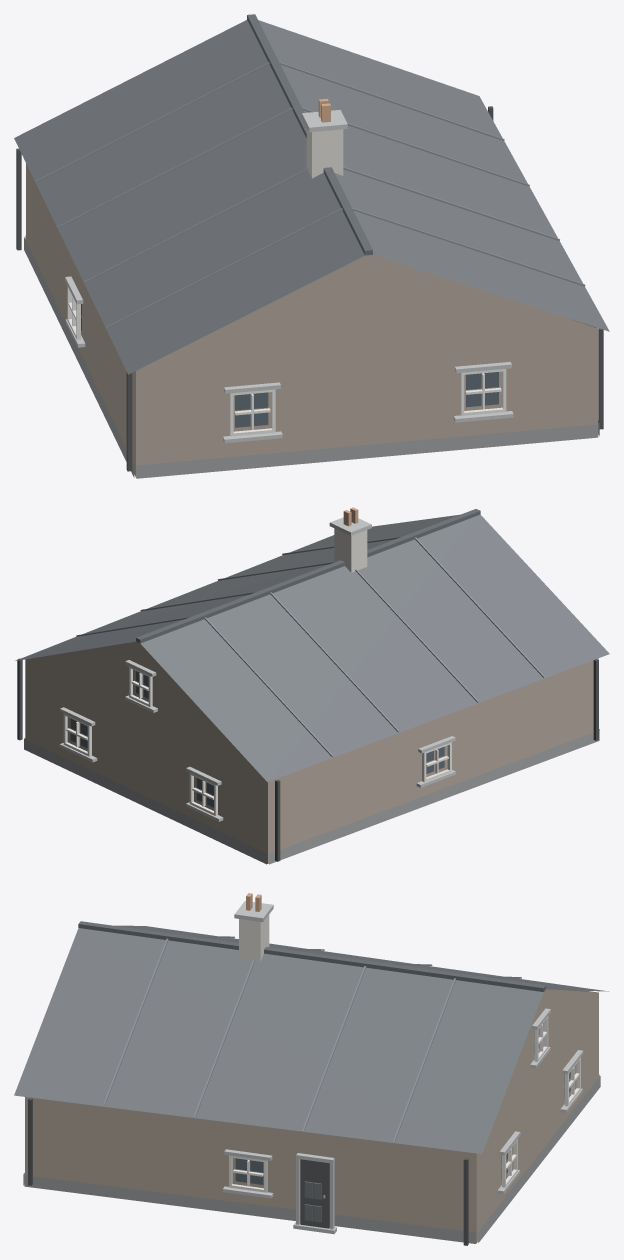
The picture shows the model from 3 angles, top to bottom: view 1: azimuth 30°, elevation 25°; view 2: azimuth 150°, elevation 25°; view 3: azimuth 270°, elevation 25°; orthographic projection. The views are drawn at different scales.
Visible parts, largest first — view 1: slate, harl_brown, plinth, slate_lt, stone_band, frame, slate_dk, pipe, chim_render; view 2: slate, harl_brown, plinth, slate_lt, slate_dk, frame, stone_band, pipe, chim_render; view 3: slate, harl_brown, plinth, slate_dk, stone_band, slate_lt, frame, door_dark, chim_render, pipe, door_dark_p.
Boxes of the visible parts, x1,y1,x2,y2 form: slate: [14, 20, 609, 374]; harl_brown: [26, 163, 597, 477]; plinth: [24, 235, 599, 478]; slate_lt: [35, 62, 585, 328]; stone_band: [65, 109, 513, 443]; frame: [67, 286, 506, 436]; slate_dk: [247, 14, 372, 255]; pipe: [16, 106, 603, 471]; chim_render: [306, 128, 343, 178]; slate: [15, 514, 609, 781]; harl_brown: [25, 641, 598, 863]; plinth: [24, 729, 599, 864]; slate_lt: [76, 536, 544, 757]; slate_dk: [136, 509, 480, 643]; frame: [63, 666, 451, 816]; stone_band: [59, 517, 455, 821]; pipe: [17, 658, 598, 861]; chim_render: [334, 528, 367, 572]; slate: [14, 925, 608, 1153]; harl_brown: [25, 989, 598, 1243]; plinth: [23, 1074, 600, 1243]; slate_dk: [78, 921, 545, 991]; stone_band: [222, 901, 583, 1234]; slate_lt: [103, 936, 521, 1142]; frame: [229, 1016, 580, 1192]; door_dark: [300, 1159, 329, 1228]; chim_render: [239, 915, 269, 961]; pipe: [28, 1098, 468, 1245]; door_dark_p: [304, 1181, 321, 1222].
Size of the model in its own units: 15.22 by 7.16 by 16.59.
